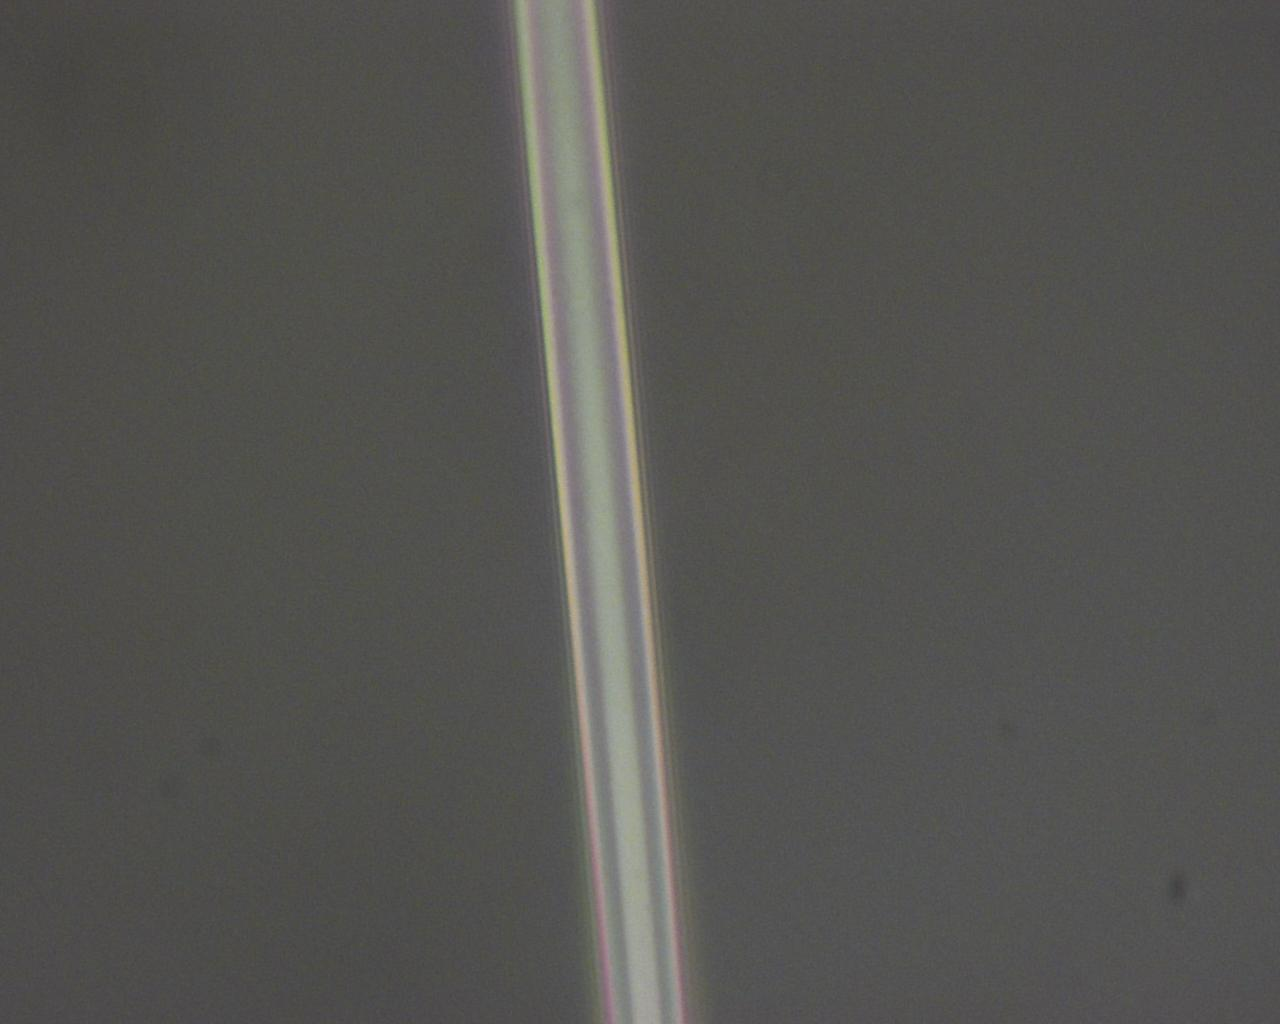fiber: (511, 0, 692, 1024)
